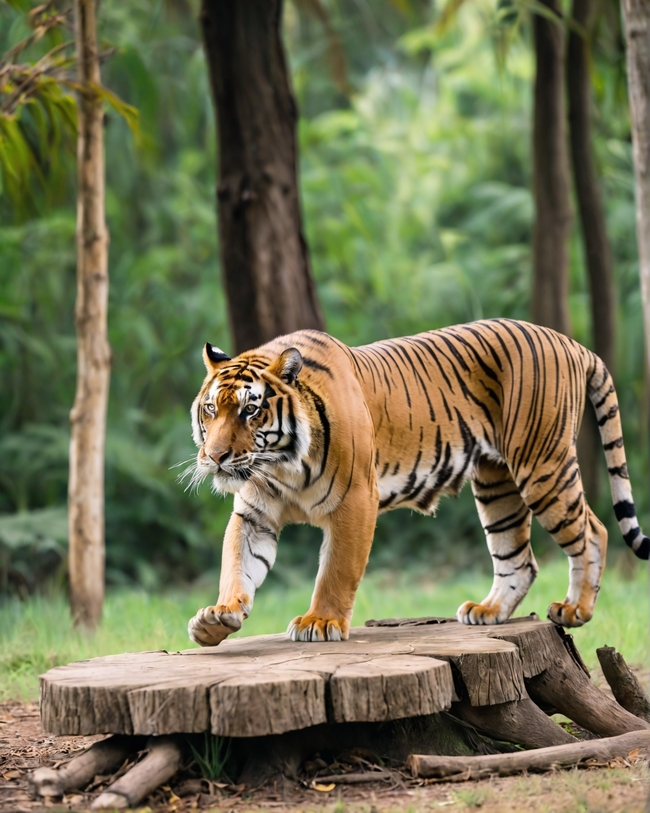tiger: (175, 316, 650, 643)
